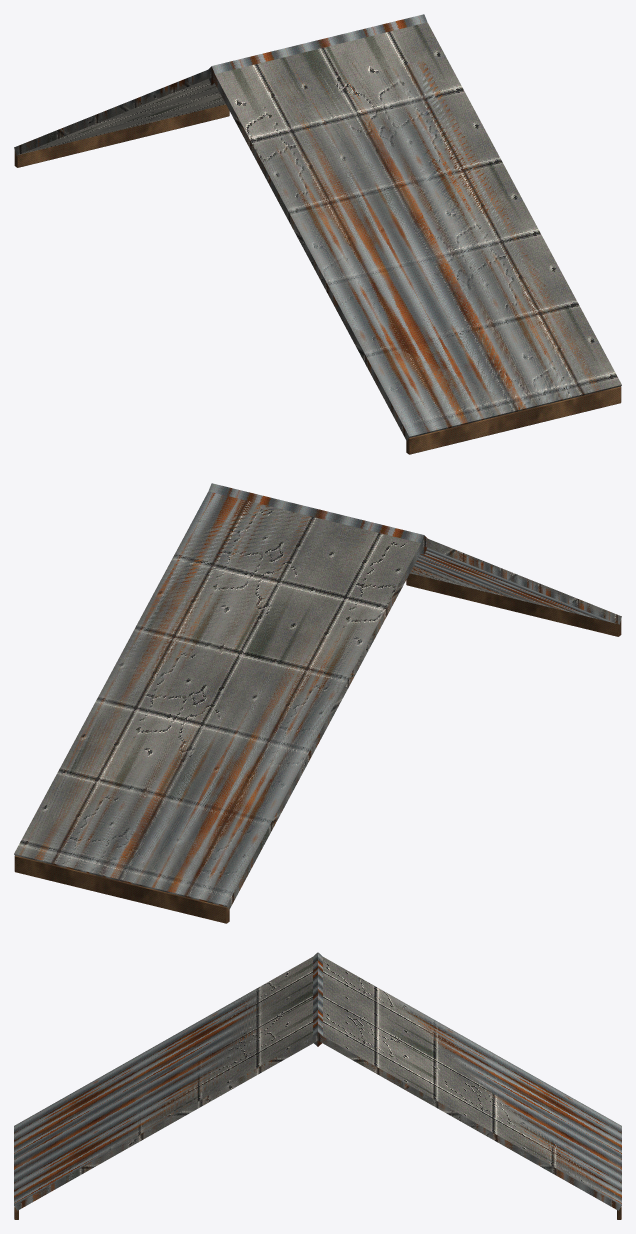
Rendered from roof_tin_12.glb.
3 renders of one model, top to bottom at view 1: azimuth 30°, elevation 25°; view 2: azimuth 150°, elevation 25°; view 3: azimuth 270°, elevation 25°, orthographic. The views are drawn at different scales.
Visible parts, largest first — view 1: roof_gable_12_col-colonly.002, roof_gable_12_mesh.001, roof_gable_12_col-colonly.003; view 2: roof_gable_12_col-colonly.003, roof_gable_12_mesh.001, roof_gable_12_col-colonly.002; view 3: roof_gable_12_mesh.001, roof_gable_12_col-colonly.003, roof_gable_12_col-colonly.002.
Part boxes in pixels (x1,y1,x2,y2): roof_gable_12_col-colonly.002: (211,22,621,440); roof_gable_12_mesh.001: (14,14,621,454); roof_gable_12_col-colonly.003: (14,72,225,155); roof_gable_12_col-colonly.003: (14,498,424,909); roof_gable_12_mesh.001: (14,483,621,923); roof_gable_12_col-colonly.002: (410,538,621,623); roof_gable_12_mesh.001: (14,952,621,1219); roof_gable_12_col-colonly.003: (316,957,621,1208); roof_gable_12_col-colonly.002: (16,957,319,1209).
Size of the model in its own units: 4 by 4.4 by 12.87.
3 materials, 3 textured.
